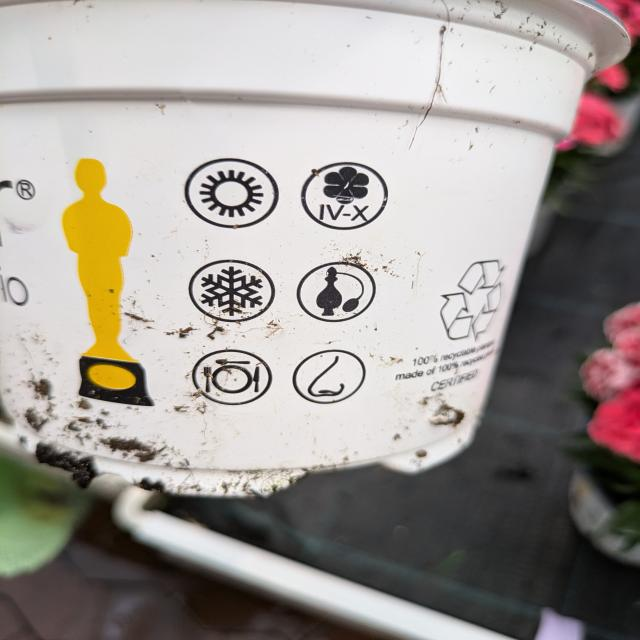sonnig: (170, 156, 282, 232)
